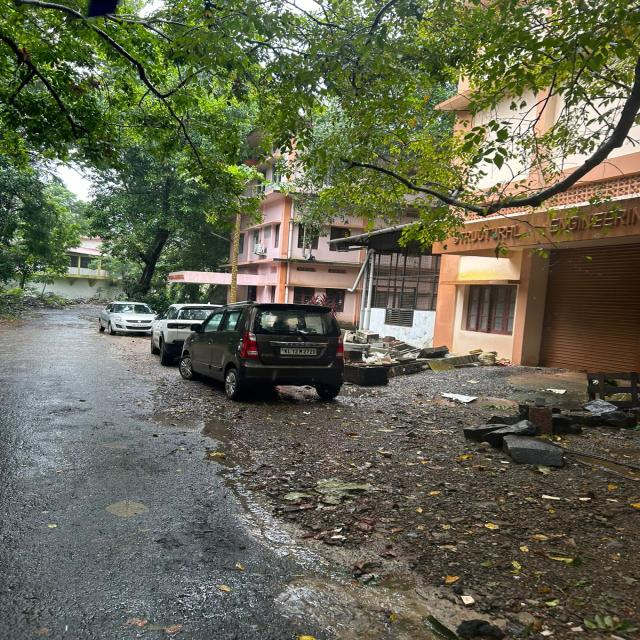car ahead at: (164, 308, 336, 389)
